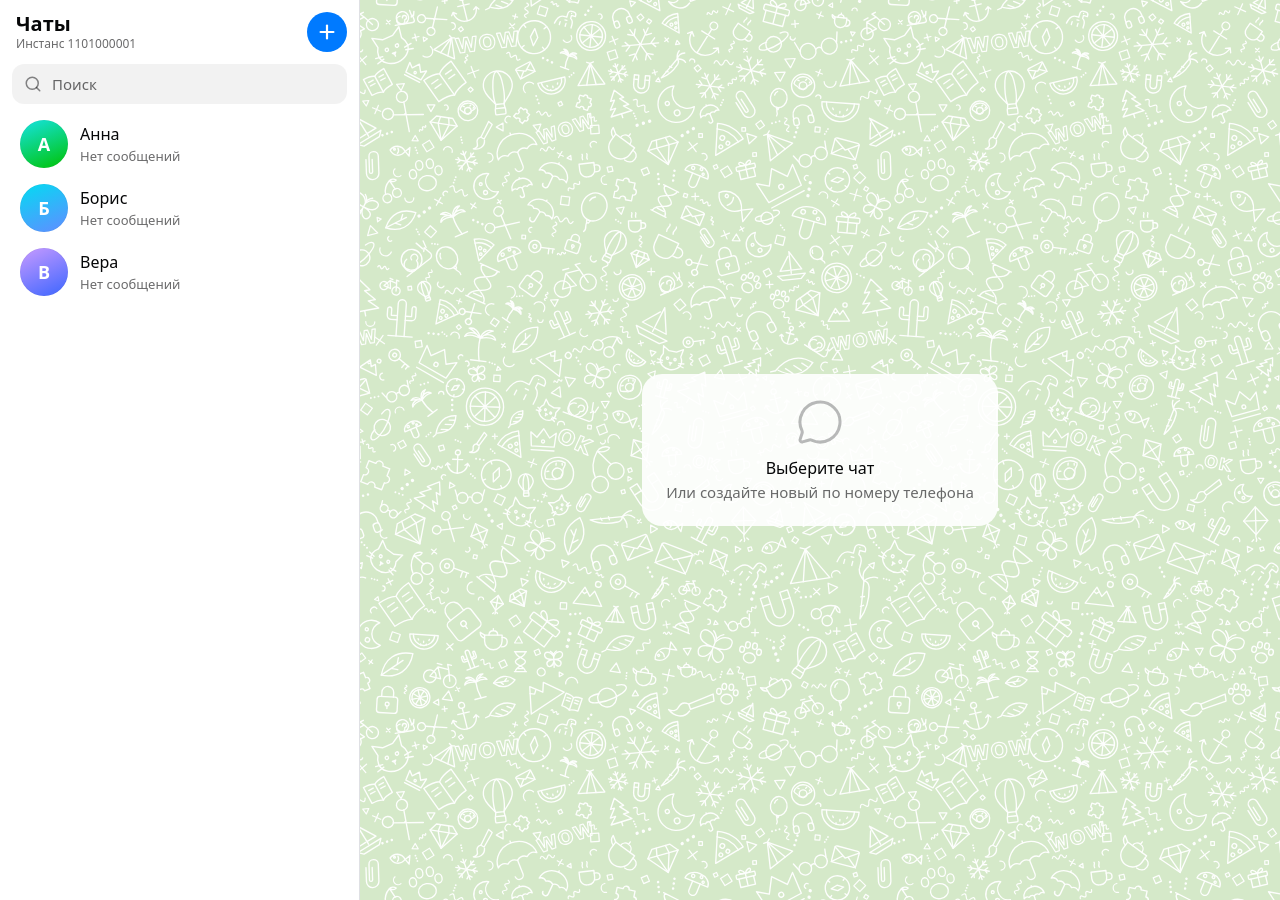
Test: ChatPage: закрытие чата › кнопка в шапке закрывает чат и возвращает к экрану «Выберите чат»
Expected: the text "Выберите чат" is shown, [766,458,874,478]
Click the button "А Анна Нет сообщений" at (180, 144), box [8,112,351,176]
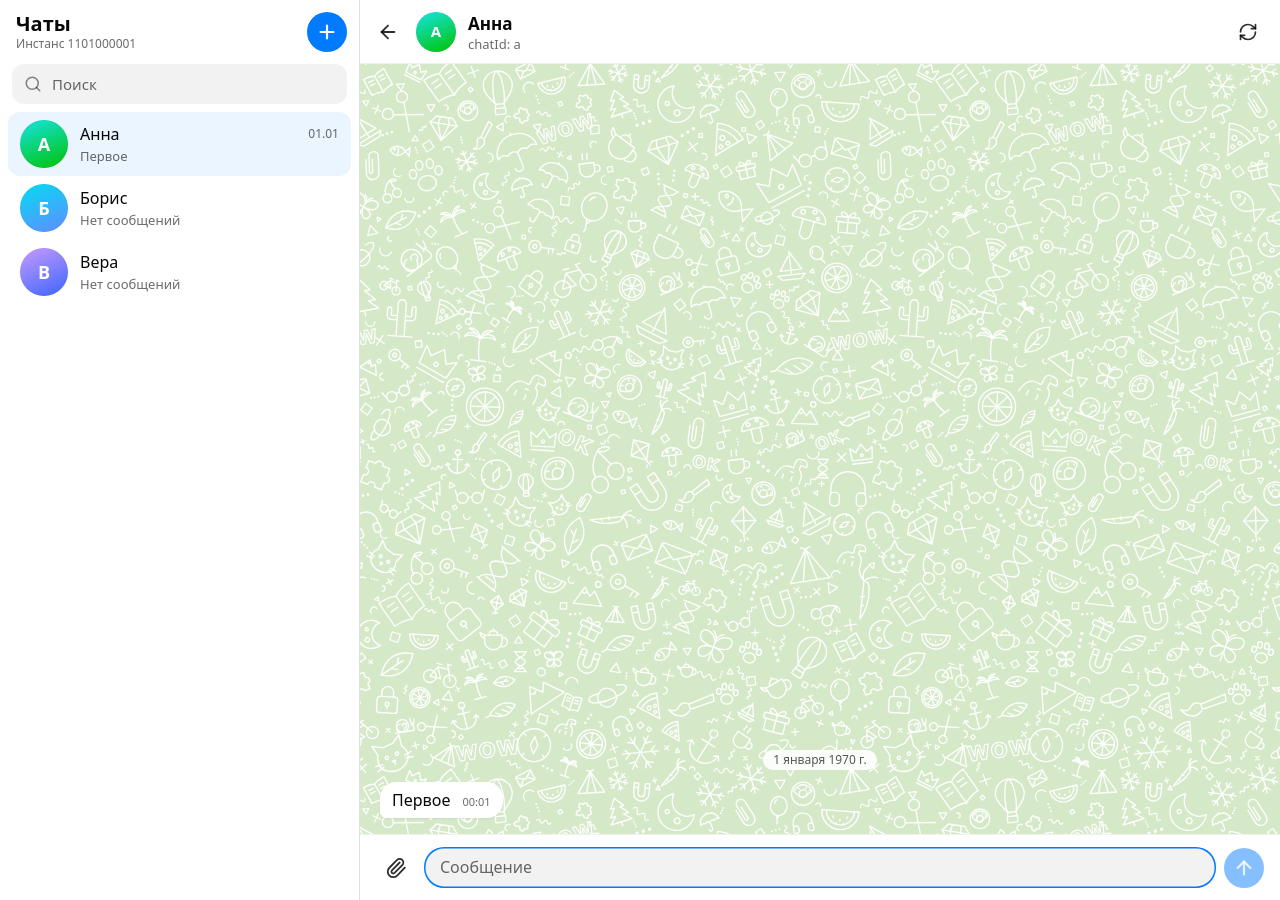
Now the text "Выберите чат" is gone
Click the button named "Закрыть чат" at (388, 32), box [368,12,408,52]
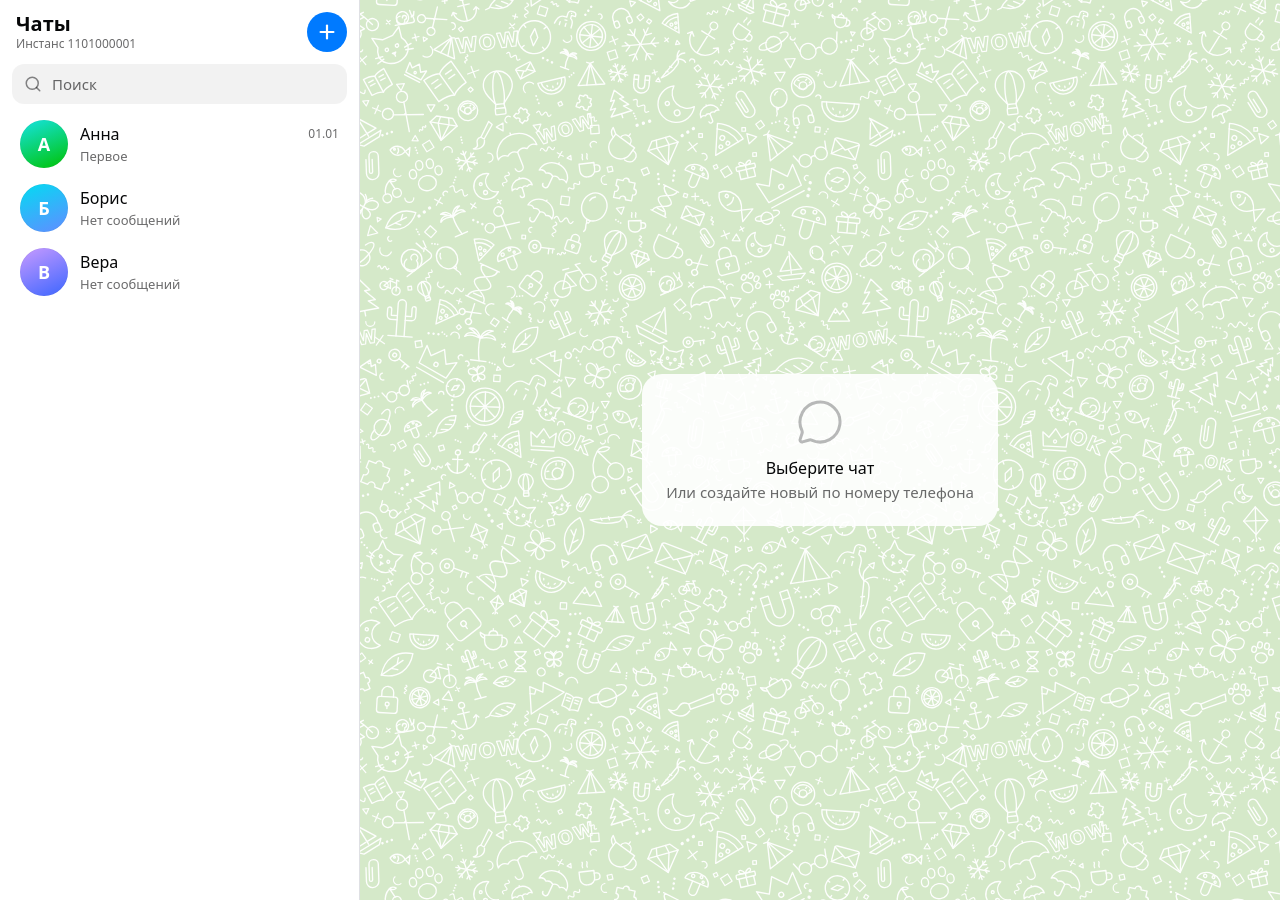
Now the text "Выберите чат" is shown, box [766,458,874,478]
